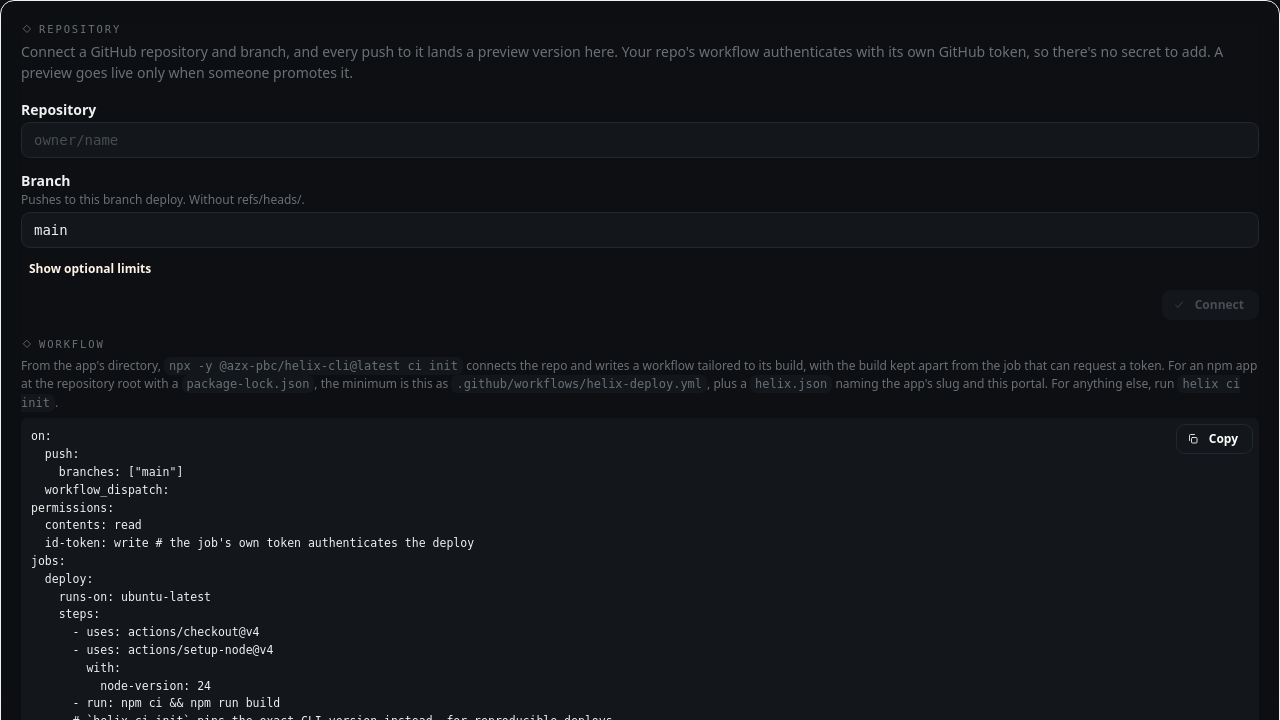
it: RepositoryTab › flags an invalid repository and keeps Connect disabled
The image size is (1280, 720).
Type "not a repo" into the field labelled "Repository". click: point(640, 140)
box: left=21, top=122, right=1259, bottom=158
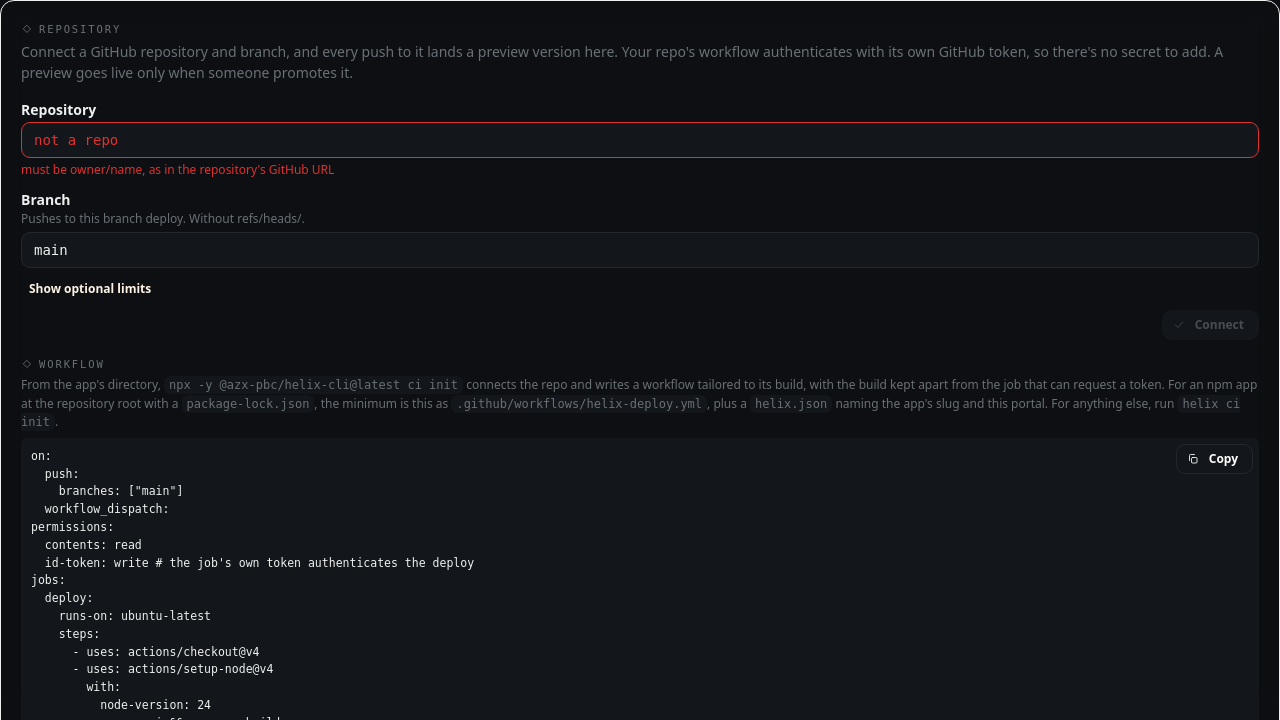
expect the button "Connect" is disabled: met, box left=1162, top=310, right=1259, bottom=340
expect the text "must be owner/name, as in the repository's GitHub URL" is shown: met, box left=21, top=161, right=334, bottom=178
